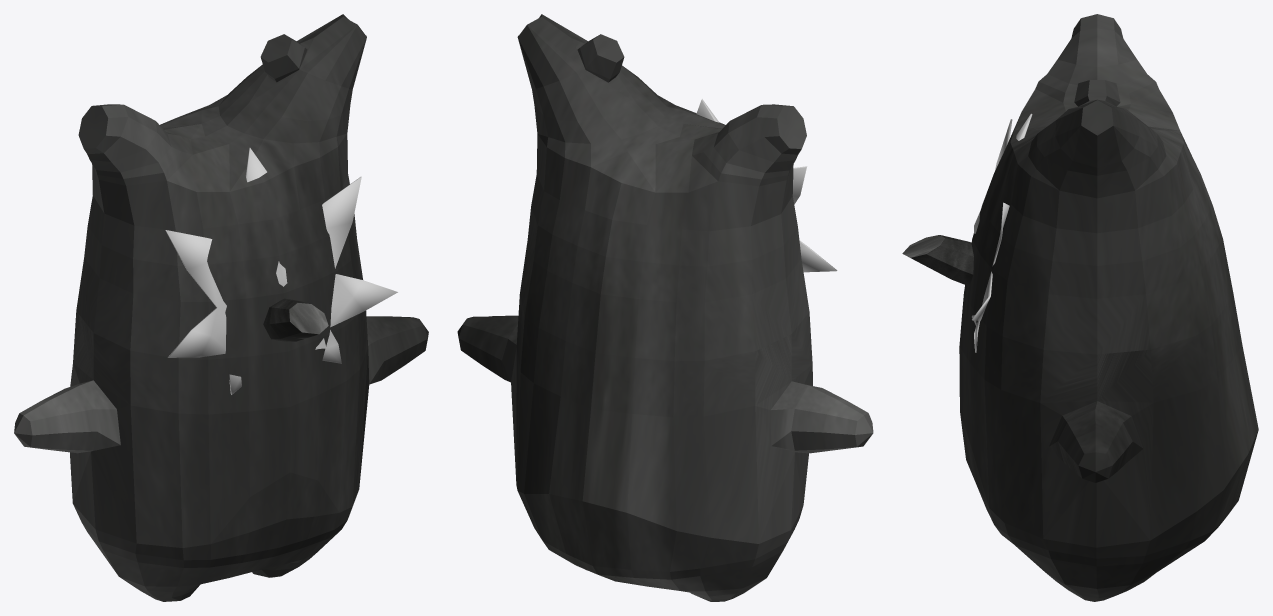
File: frame_0015.obj
3 renders of one model, left to right at view 1: azimuth 30°, elevation 25°; view 2: azimuth 150°, elevation 25°; view 3: azimuth 270°, elevation 25°, orthographic.
Parts seen in each view (by area): view 1: korok, leaf.003_柱体.013, nose.003_柱体.011; view 2: korok, leaf.003_柱体.013; view 3: korok, nose.003_柱体.011, leaf.003_柱体.013.
Part boxes in pixels (x1,y1,x2,y2): korok: (14, 14, 428, 601); leaf.003_柱体.013: (165, 147, 397, 394); nose.003_柱体.011: (263, 298, 328, 341); korok: (457, 14, 873, 601); leaf.003_柱体.013: (696, 99, 837, 272); korok: (959, 14, 1258, 601); nose.003_柱体.011: (902, 235, 973, 286); leaf.003_柱体.013: (972, 113, 1032, 352).
Bounding box in the file's own units: 1.9 × 2.36 × 1.43.
